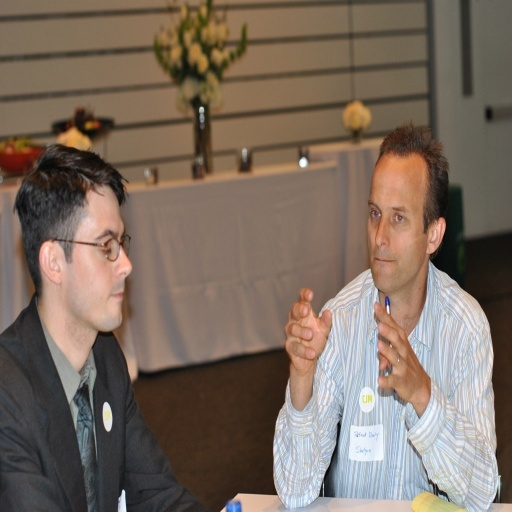hand: (372, 300, 423, 400), (287, 298, 332, 397)
